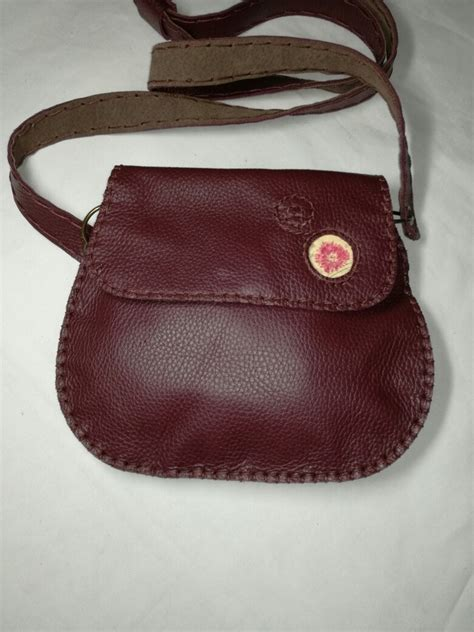cuero: (51, 164, 435, 484)
